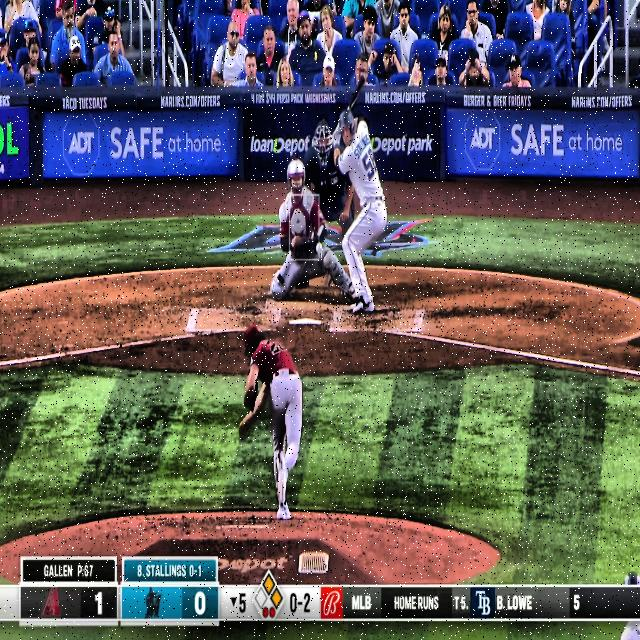baseball: (315, 240, 324, 256)
